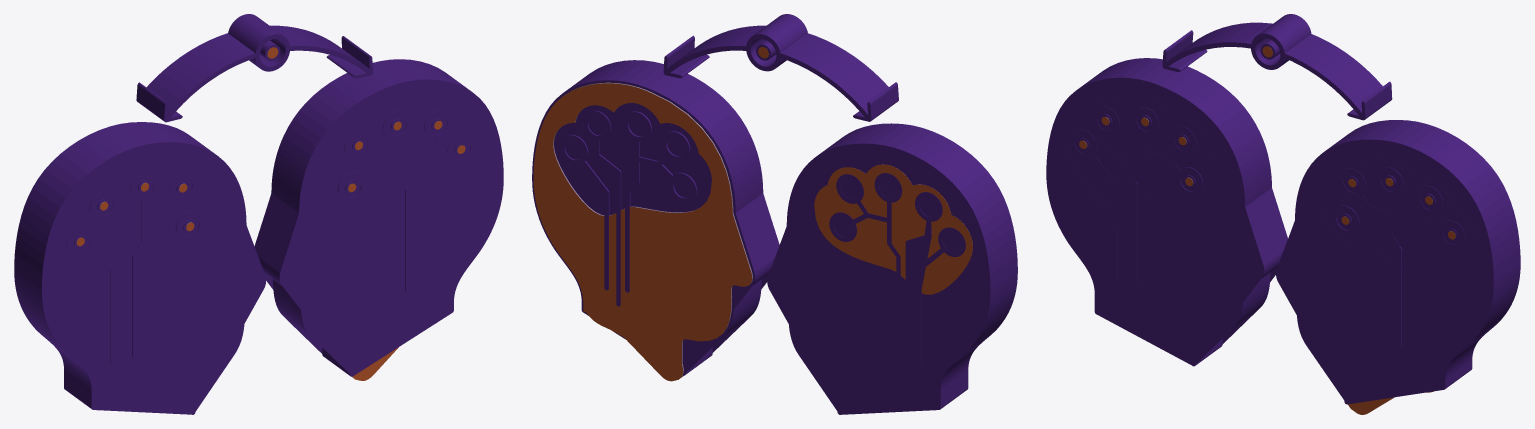
File: ActiveListening.fbx
The picture shows the model from 3 angles, left to right: view 1: azimuth 30°, elevation 25°; view 2: azimuth 150°, elevation 25°; view 3: azimuth 330°, elevation 25°; orthographic projection. The views are drawn at different scales.
Visible parts, largest first — view 1: ACTIVE_LISTENING; view 2: ACTIVE_LISTENING; view 3: ACTIVE_LISTENING.
Boxes of the visible parts, bbox=[...] form: ACTIVE_LISTENING: bbox=[14, 14, 503, 414]; ACTIVE_LISTENING: bbox=[532, 14, 1017, 414]; ACTIVE_LISTENING: bbox=[1046, 14, 1520, 414].
Size of the model in its own units: 9.64 by 7.39 by 1.07.
